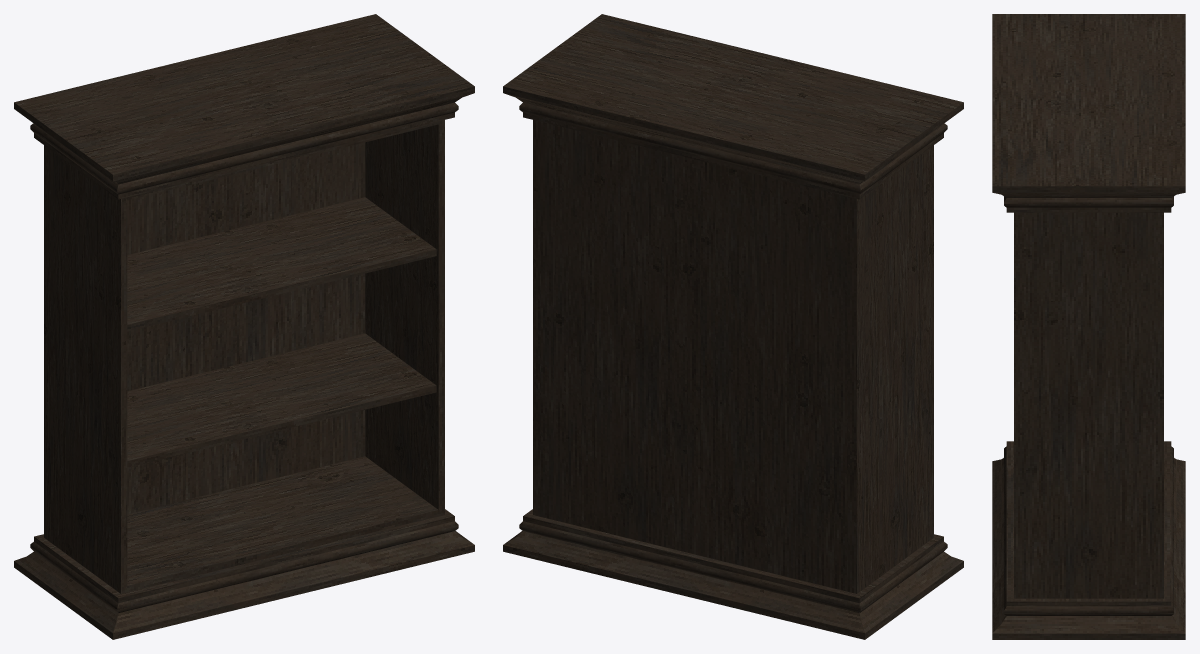
File: shelf_mp_3_2.glb
3 renders of one model, left to right at view 1: azimuth 30°, elevation 25°; view 2: azimuth 150°, elevation 25°; view 3: azimuth 270°, elevation 25°, orthographic. The views are drawn at different scales.
Parts seen in each view (by area): view 1: shelf_mp_3_2; view 2: shelf_mp_3_2; view 3: shelf_mp_3_2.
Boxes of the visible parts, <box> form: shelf_mp_3_2: <box>14,14,474,639</box>; shelf_mp_3_2: <box>503,14,963,639</box>; shelf_mp_3_2: <box>992,14,1185,639</box>.
Size of the model in its own units: 1.14 by 1.4 by 0.54.
Materials: 1 (1 with a texture image).
